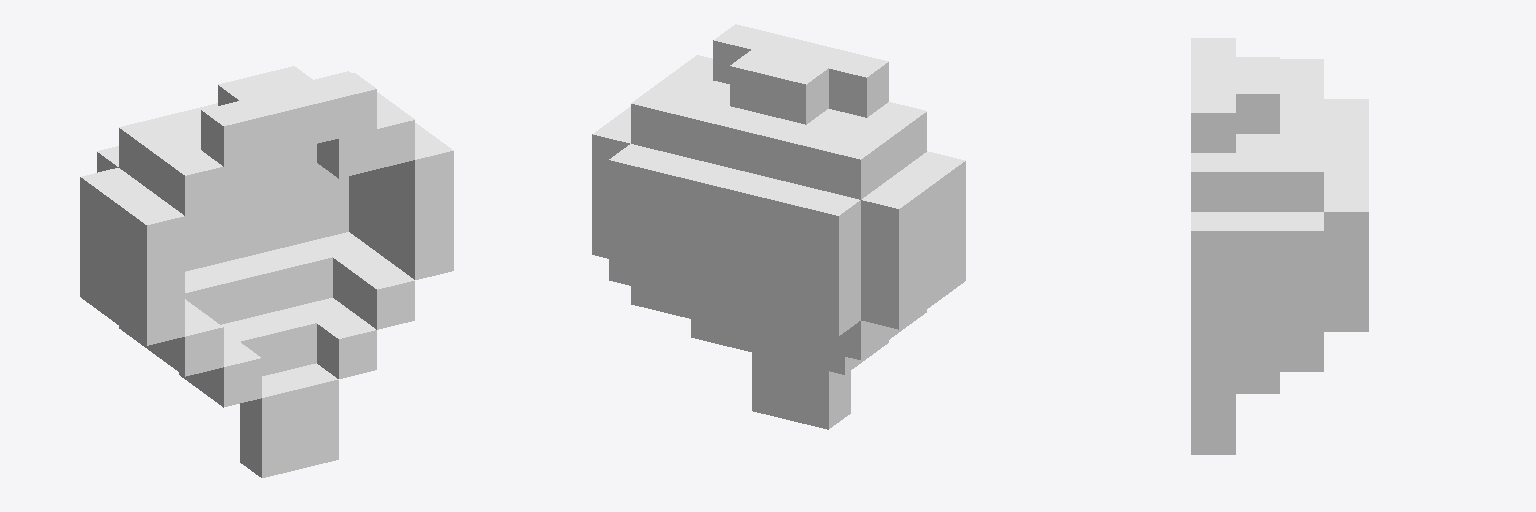
The model's file is bak.obj.
The picture shows the model from 3 angles: view 1: azimuth 30°, elevation 25°; view 2: azimuth 150°, elevation 25°; view 3: azimuth 270°, elevation 25°; orthographic projection.
Visible parts, largest first — view 1: object 1; view 2: object 1; view 3: object 1.
Part boxes in pixels (bbox=[...]): object 1: bbox=[80, 66, 453, 477]; object 1: bbox=[592, 24, 965, 429]; object 1: bbox=[1191, 38, 1368, 454].
Size of the model in its own units: 0.8 by 0.9 by 0.4.